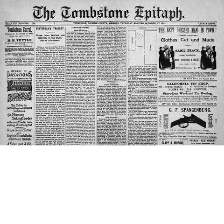news_paper: (0, 0, 224, 145)
